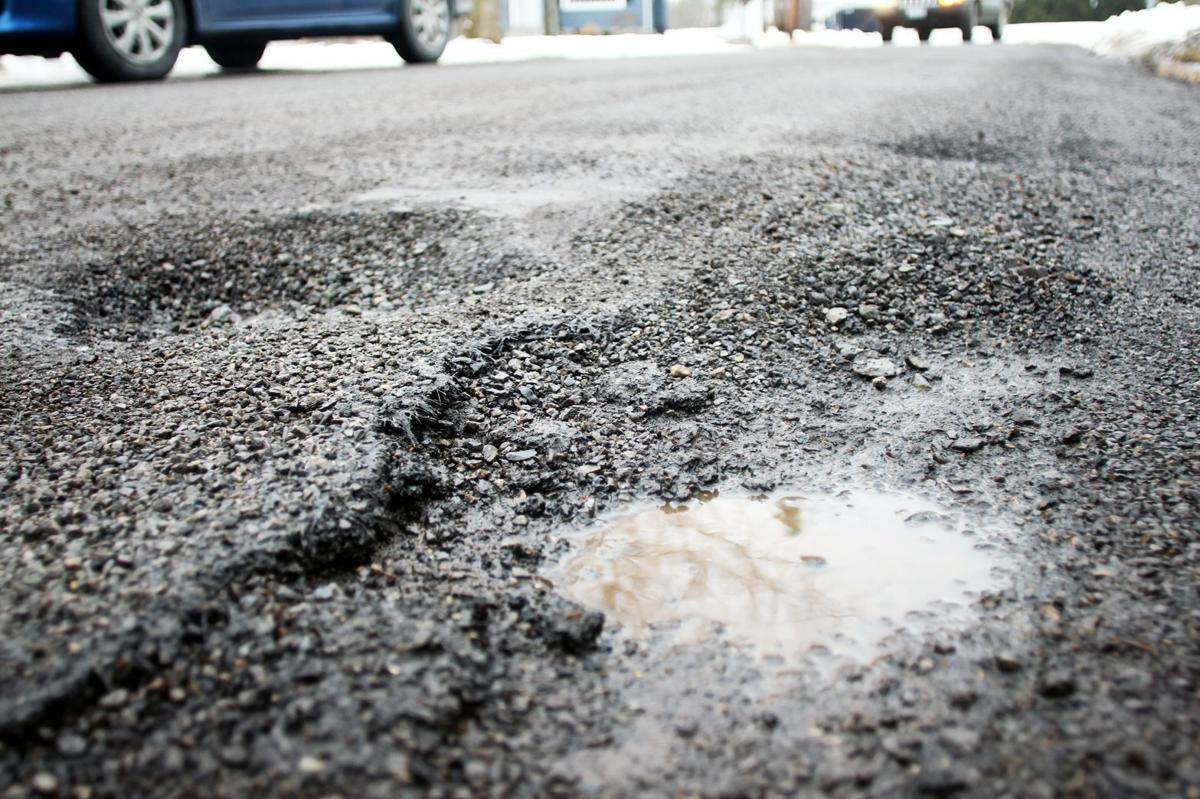pothole: (500, 337, 1068, 727), (72, 204, 466, 376), (877, 117, 1018, 177)
